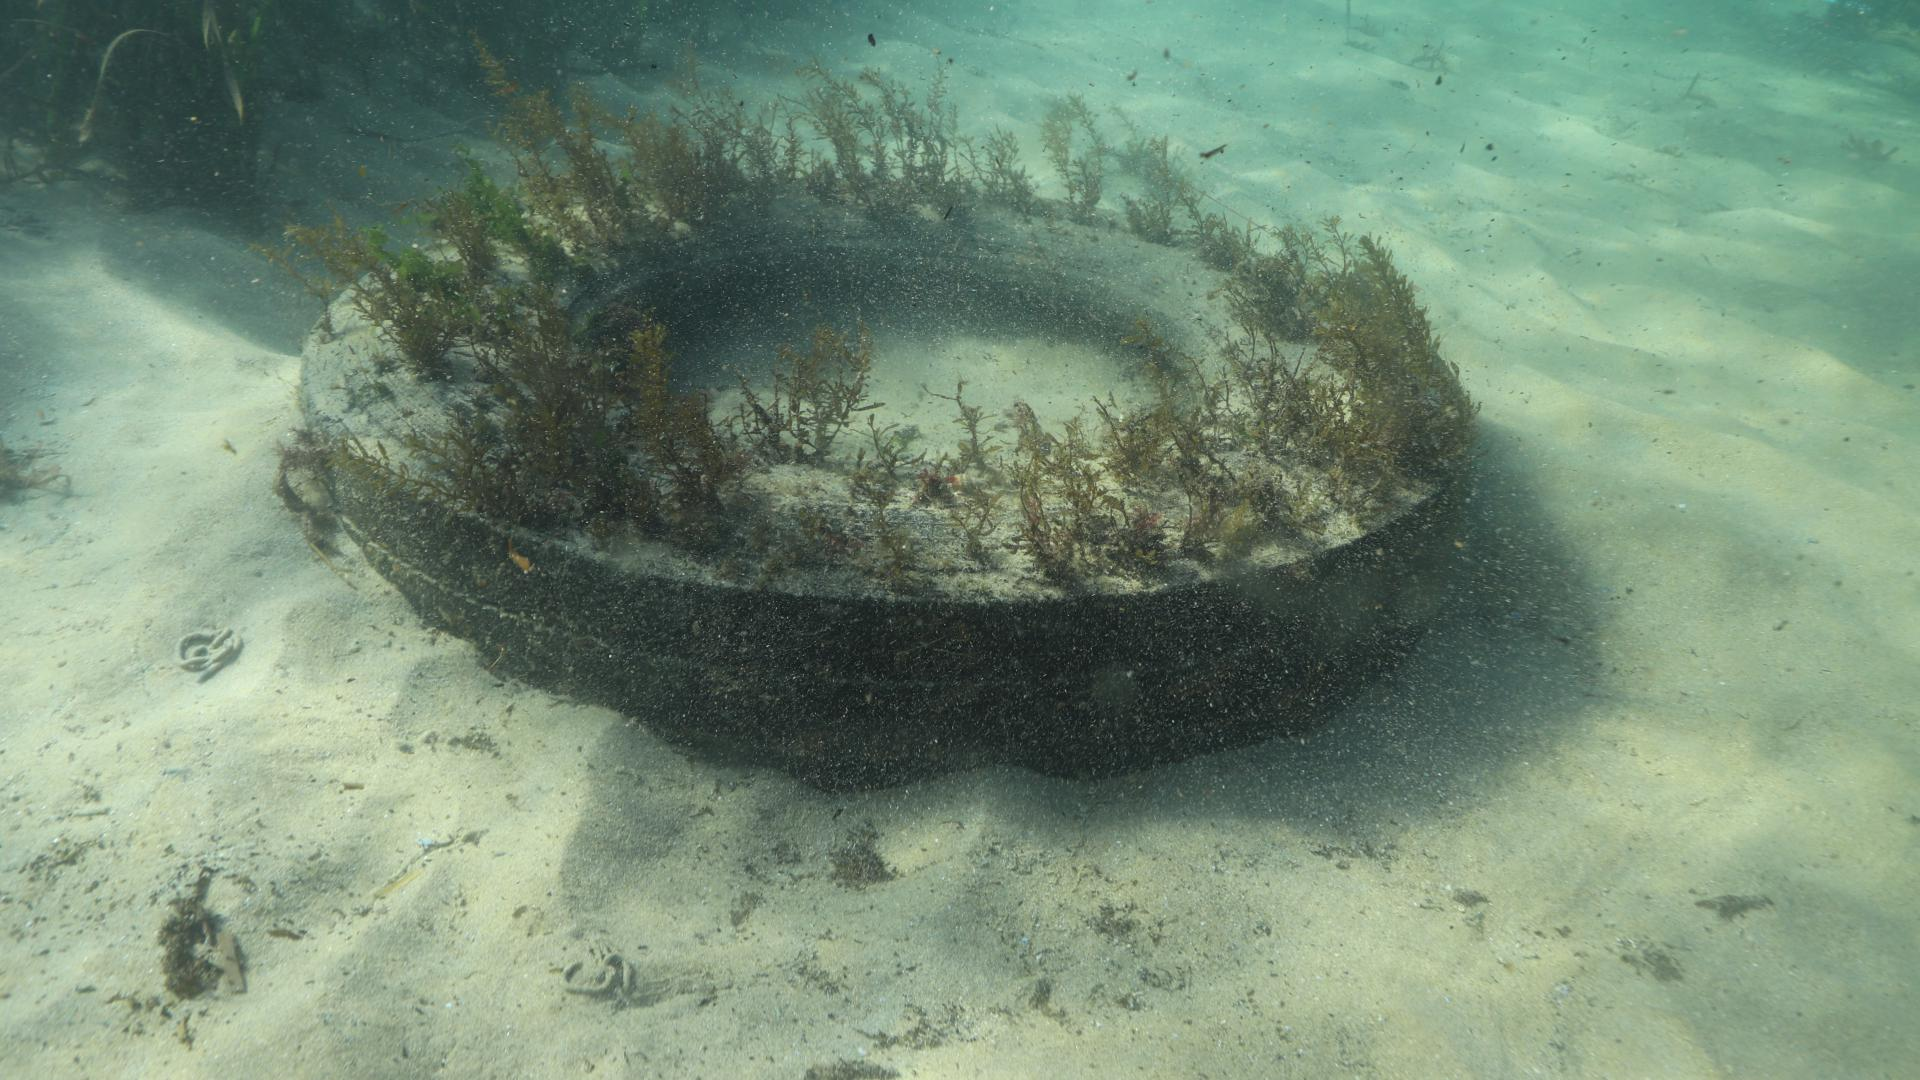tire: (297, 175, 1460, 793)
